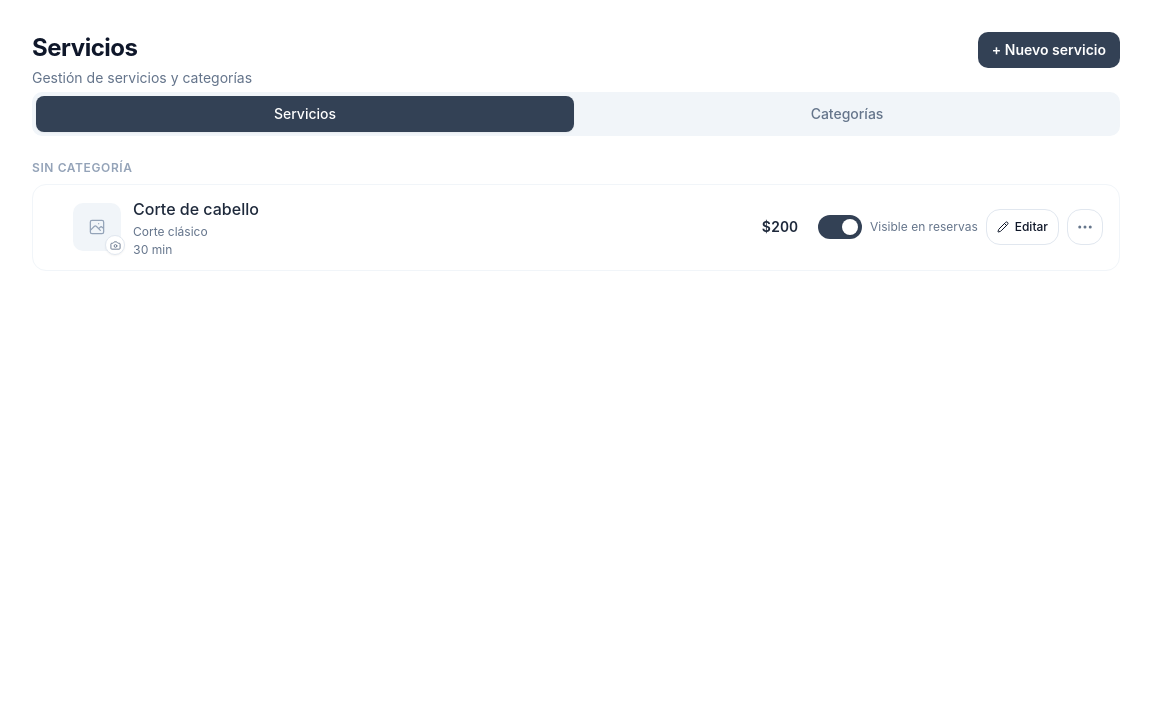
Test: ServiciosPage — eliminar servicio › con citas futuras del servicio bloquea la eliminación y muestra cuántas (OM-17)
The image size is (1152, 720).
Click the button named "Más acciones de Corte de cabello": (1085, 227) [1067, 209, 1103, 245]
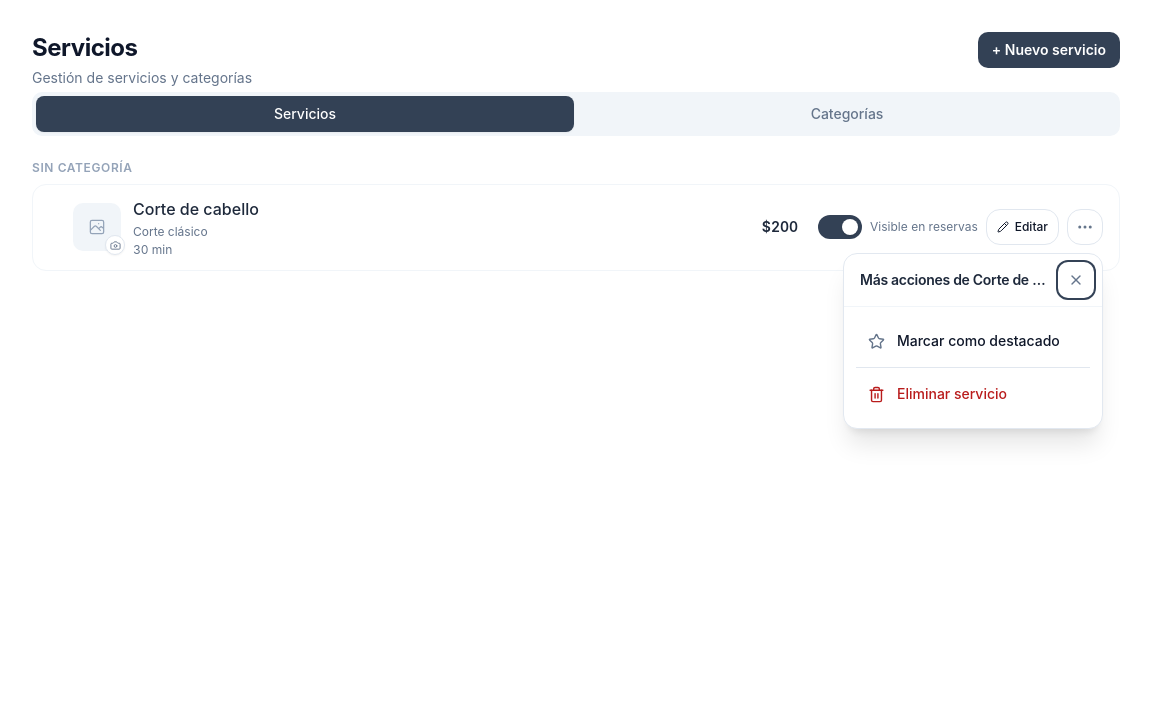
Click the button "Eliminar servicio": (973, 394) [856, 372, 1090, 416]
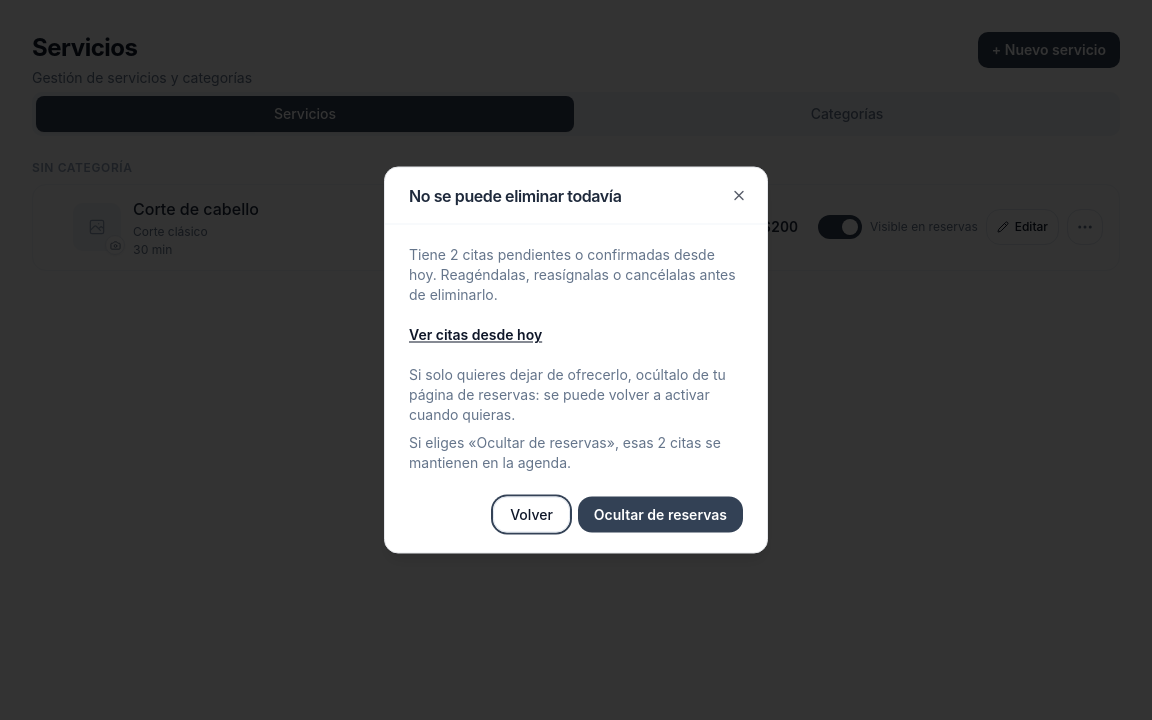
Expected: the dialog "No se puede eliminar todavía" shows "Tiene 2 citas pendientes o confirmadas desde hoy", [409, 246, 736, 302]
Expected: the dialog "No se puede eliminar todavía" shows "Si eliges «Ocultar de reservas», esas 2 citas se mantienen en la agenda.", [409, 434, 721, 470]
Expected: the button "Eliminar servicio" is gone
